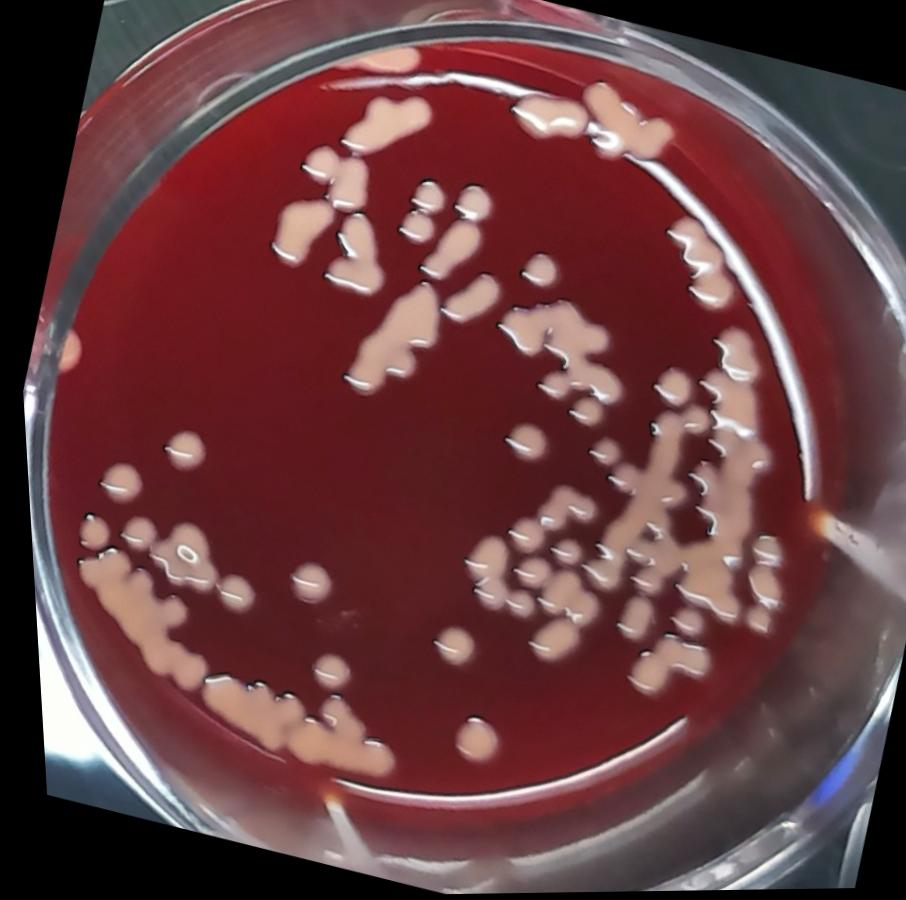krosea: (633, 369, 792, 633), (181, 657, 406, 793), (40, 544, 221, 702), (324, 260, 461, 424), (474, 281, 616, 387), (560, 70, 693, 183), (644, 206, 757, 320), (332, 74, 445, 179), (130, 507, 231, 604), (609, 623, 710, 717), (253, 183, 343, 284), (313, 206, 400, 308), (496, 84, 593, 166), (441, 523, 521, 622), (405, 207, 489, 301), (428, 256, 515, 341), (696, 311, 772, 390), (520, 476, 599, 546), (320, 146, 387, 226), (527, 564, 602, 632), (513, 608, 582, 678), (434, 707, 506, 774), (410, 615, 479, 684), (273, 547, 340, 612), (145, 420, 211, 485), (85, 449, 148, 516), (293, 641, 357, 702), (199, 566, 260, 626), (640, 360, 699, 418), (600, 590, 655, 651), (507, 244, 566, 298), (61, 501, 113, 561), (444, 178, 501, 232), (493, 417, 551, 470), (41, 326, 92, 386), (491, 508, 547, 562), (291, 137, 341, 190), (400, 170, 453, 218), (104, 511, 157, 559), (553, 391, 607, 436), (390, 205, 441, 252), (728, 598, 777, 646), (659, 601, 706, 648), (504, 552, 552, 598), (580, 430, 626, 475), (540, 531, 582, 572)
